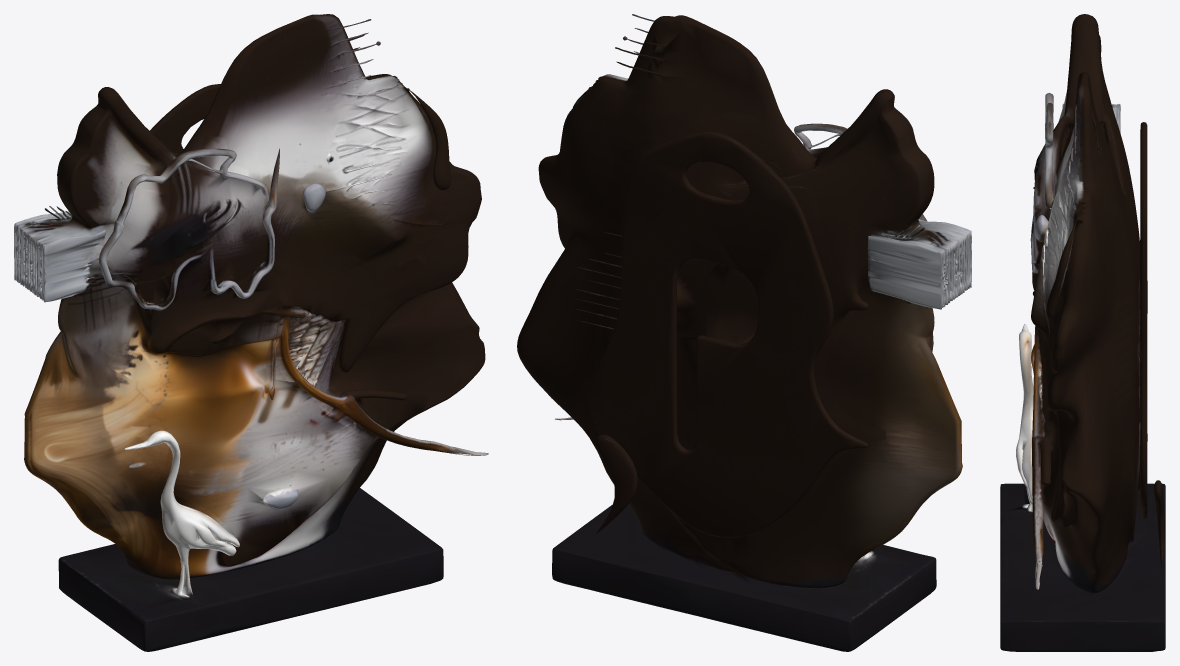
3 views of the same model, side by side, from view 1: azimuth 30°, elevation 25°; view 2: azimuth 150°, elevation 25°; view 3: azimuth 270°, elevation 25° (orthographic). The views are drawn at different scales.
Visible parts, largest first — view 1: node_0; view 2: node_0; view 3: node_0.
Part boxes in pixels (left/top/right/bottom): node_0: left=14, top=14, right=488, bottom=651; node_0: left=517, top=14, right=971, bottom=651; node_0: left=1000, top=14, right=1165, bottom=651.
Bounding box in the file's own units: 0.8581 × 1.02 × 0.2912.
1 material, 1 textured.
